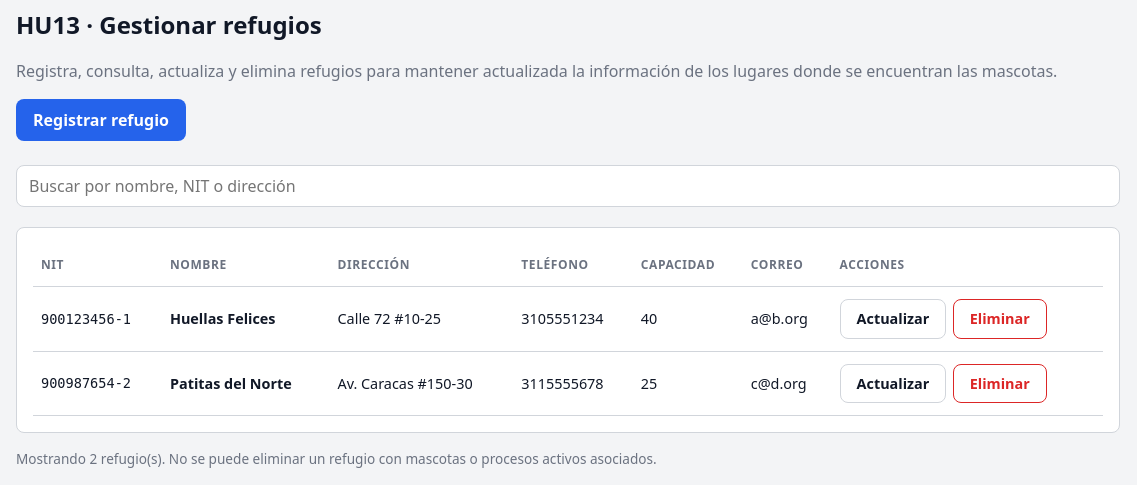
Test: HU13 - ShelterManager › valida campos obligatorios (NIT, nombre, capacidad)
The width and height of the screenshot is (1137, 485).
Check: the text "Huellas Felices" is shown, box [162, 286, 330, 351]
What coordinates should you click on to do the following:
click the button "Registrar refugio"
I would click on:
 (101, 120)
Its box is [16, 99, 186, 141].
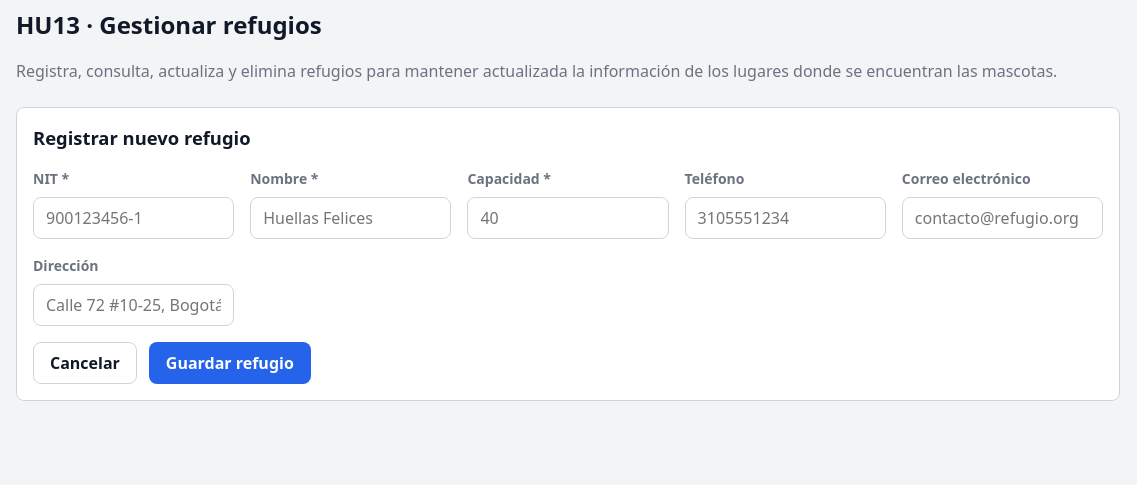
Check: the field labelled "NIT *" is shown, box [33, 197, 234, 239]
What coordinates should you click on to do the following:
click the button "Guardar refugio"
I would click on:
 (230, 363)
Its box is [149, 342, 311, 384].
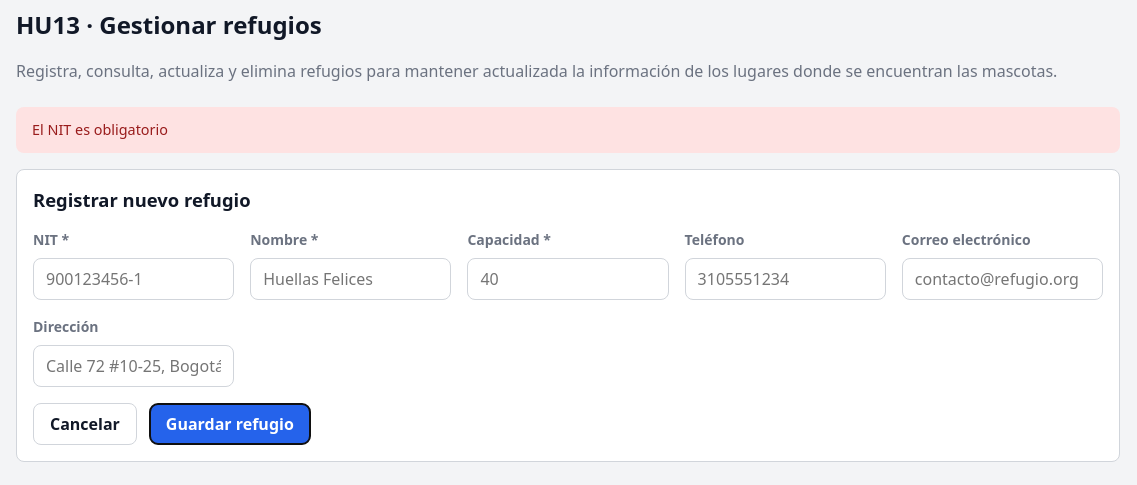
Check: the message shows "NIT es obligatorio", box [32, 120, 168, 139]
